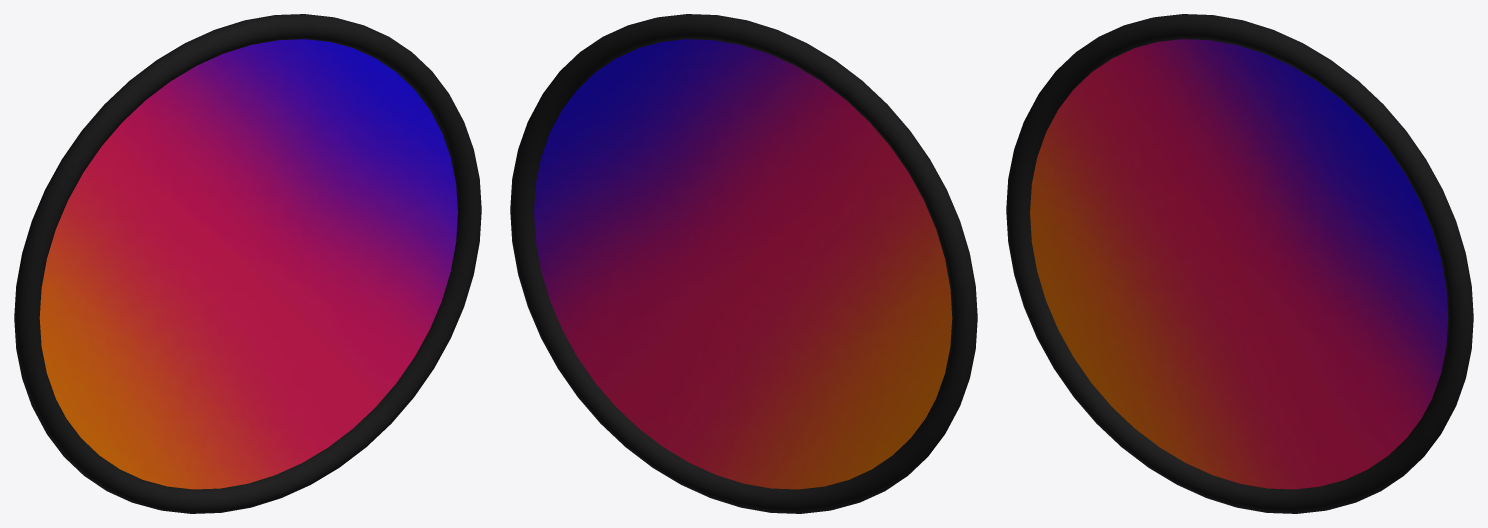
The model's file is portal.gltf.
3 views of the same model, side by side, from view 1: azimuth 30°, elevation 25°; view 2: azimuth 150°, elevation 25°; view 3: azimuth 330°, elevation 25° (orthographic).
Visible parts, largest first — view 1: Panel, Rim; view 2: Panel, Rim; view 3: Panel, Rim.
Boxes of the visible parts, x1,y1,x2,y2 form: Panel: [39, 39, 457, 489]; Rim: [14, 14, 481, 513]; Panel: [534, 39, 952, 489]; Rim: [510, 14, 977, 513]; Panel: [1030, 39, 1448, 489]; Rim: [1006, 14, 1473, 513].
Bounding box in the file's own units: 0.5514 × 0.5514 × 0.0263.
2 materials, 1 textured.
